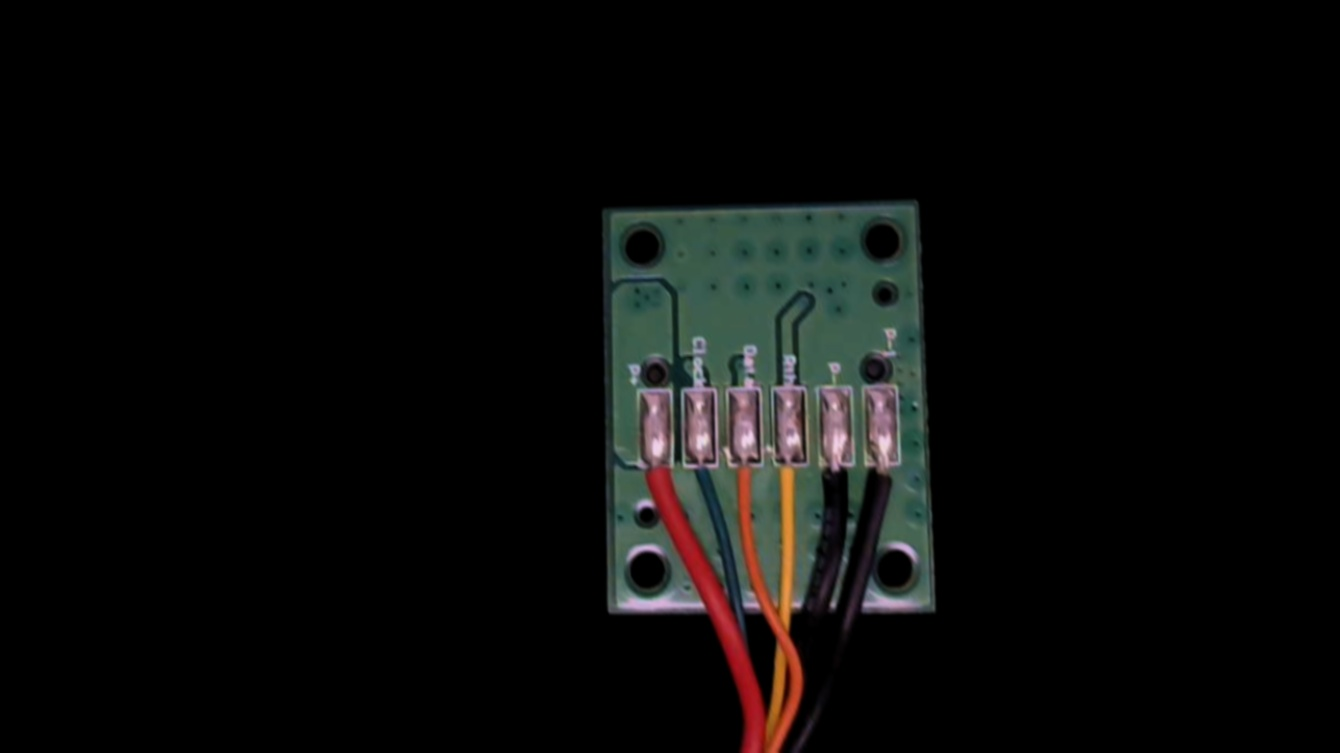Black: (819, 446, 855, 530)
Black1: (863, 446, 905, 531)
Green: (680, 445, 721, 514)
Orange: (727, 446, 766, 528)
Red: (638, 444, 675, 531)
Yellow: (771, 445, 813, 539)
